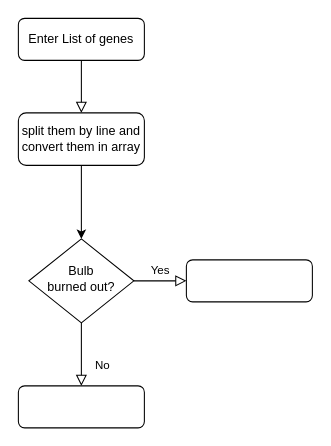
Image size: 331x446. Some labels were removed from this diagram. Each missing label, with the centre of its shape:
"Repair Lamp" belongs at [80,406].
"Replace Bulb" belongs at [248,280].
